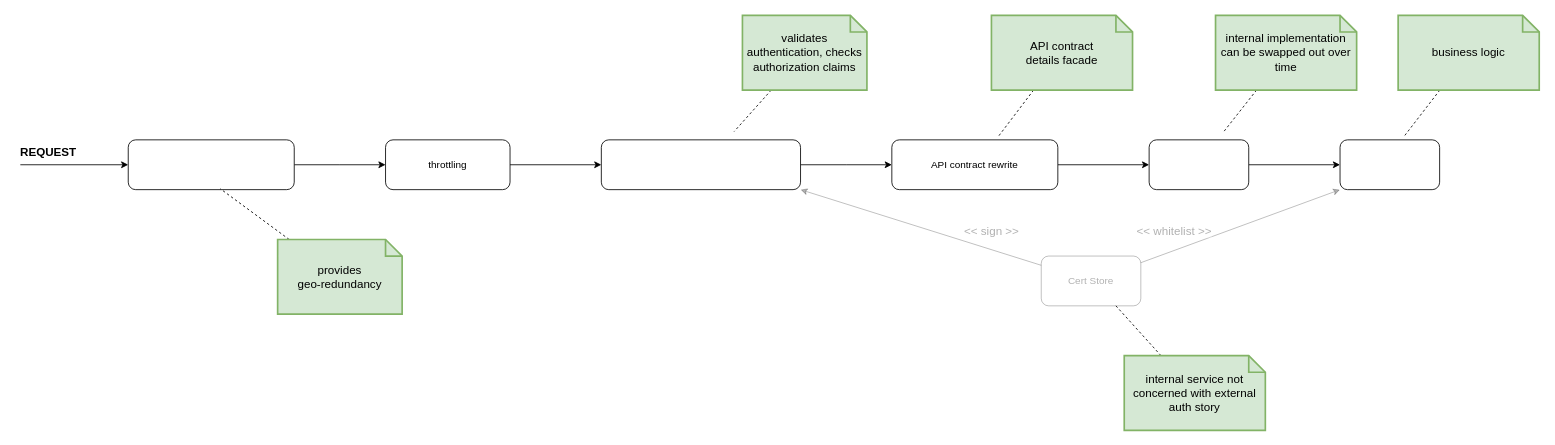
This 1555x445 diagram has some shape labels left out. Each missing label, with the centre of its shape:
"global software load balancing" goes at (210,164).
"Json Web Token (JWT) termination" goes at (701,164).
"service" goes at (1389,164).
"URL rewrite" goes at (1198,164).
